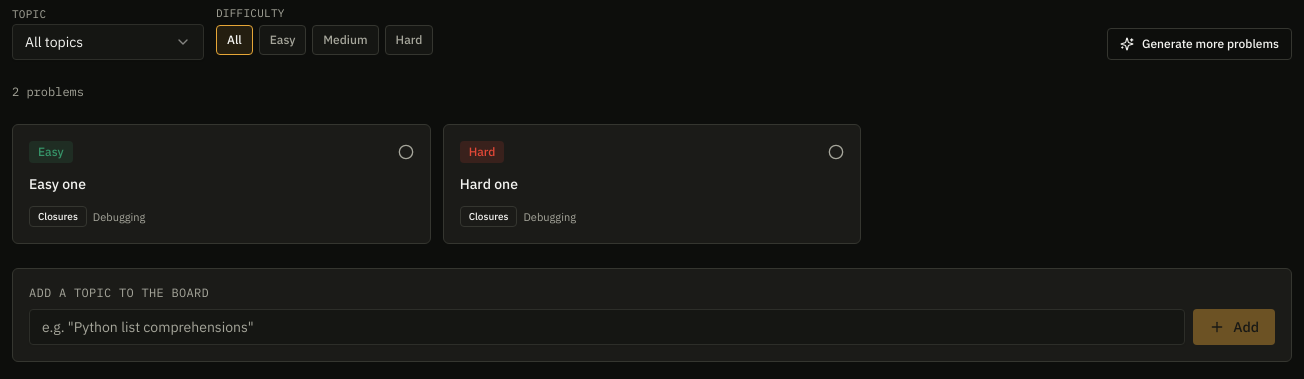
PracticeBoard › filters the visible problems by difficulty
This screenshot has width=1304, height=379.
Click the button "Hard": (409, 40) left=385, top=25, right=433, bottom=55
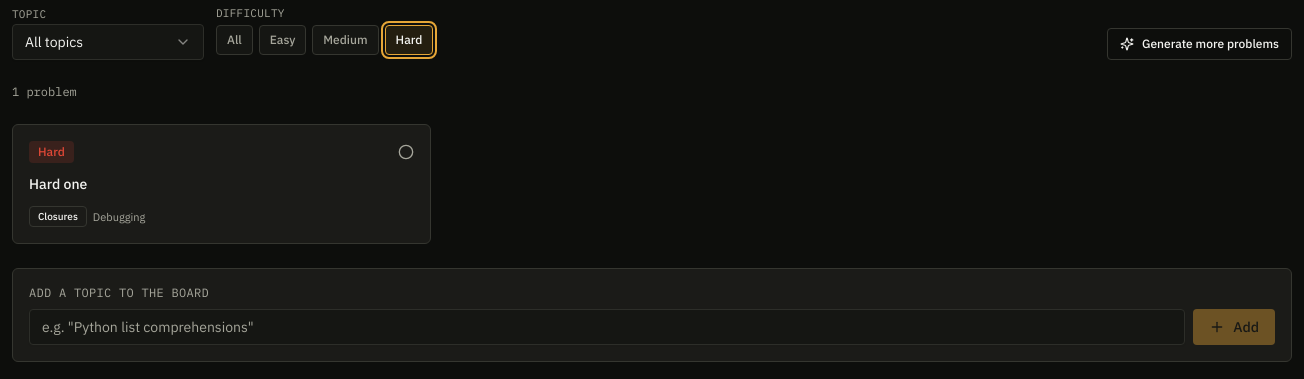
Expected: the text "Hard one" is shown, left=29, top=175, right=87, bottom=193
Expected: the link "Easy one" is gone
